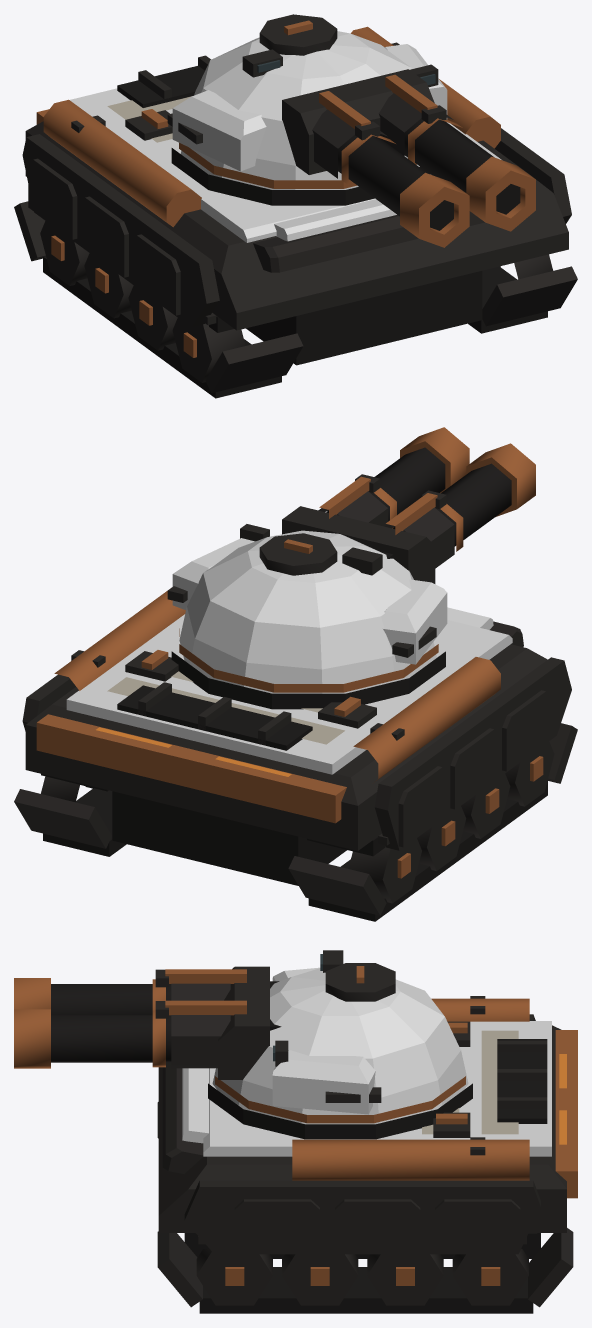
File: lnd_t2_tank.27eb08c5.glb
3 views of the same model, one above another, from view 1: azimuth 30°, elevation 25°; view 2: azimuth 150°, elevation 25°; view 3: azimuth 270°, elevation 25° (orthographic). The views are drawn at different scales.
Parts seen in each view (by area): view 1: lod0; view 2: lod0; view 3: lod0.
Boxes of the visible parts, x1=… form: lod0: x1=14, y1=14, x2=577, y2=398; lod0: x1=14, y1=427, x2=577, y2=921; lod0: x1=14, y1=950, x2=577, y2=1313.
Size of what is drawn, in the model's own units: 1.47 by 1.02 by 1.98.
